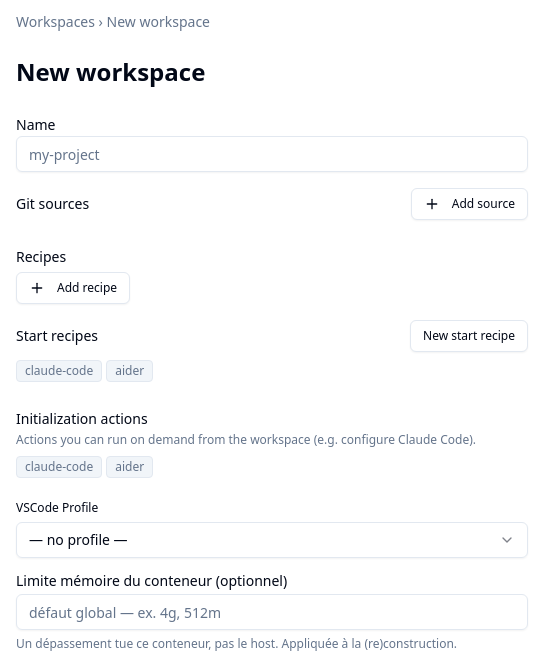
Test: WorkspaceCreate › permet d'ajouter deux sources
What coordinates should you click on to do the following:
click the button "Add source"
I would click on:
 (469, 204)
Its box is 411,188 -> 528,220.
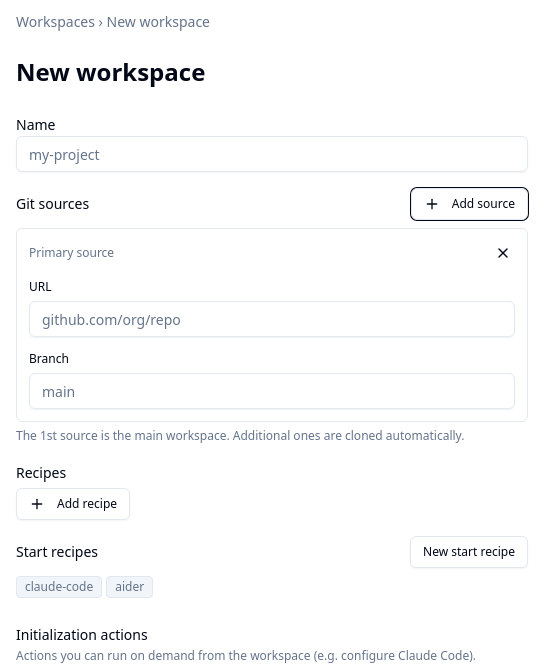
What coordinates should you click on to do the following:
click the button "Add source"
I would click on:
 (469, 204)
Its box is 411,188 -> 528,220.
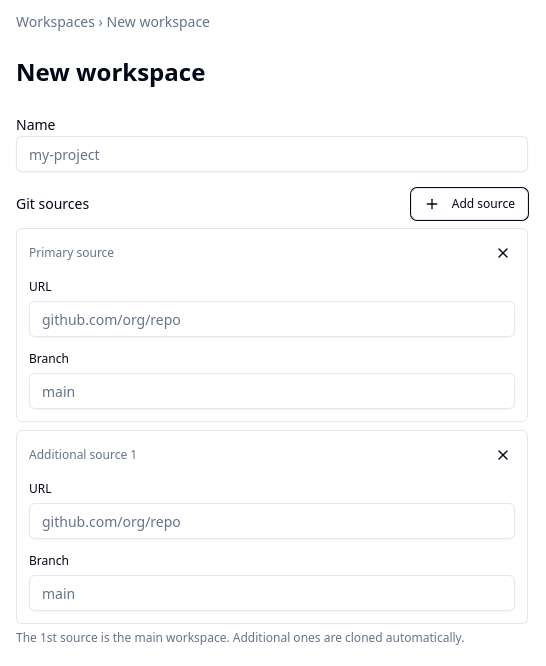
Check: the number of fields with placeholder "github.com/org/repo" is 2, box 29,301 -> 515,337; 29,503 -> 515,539
